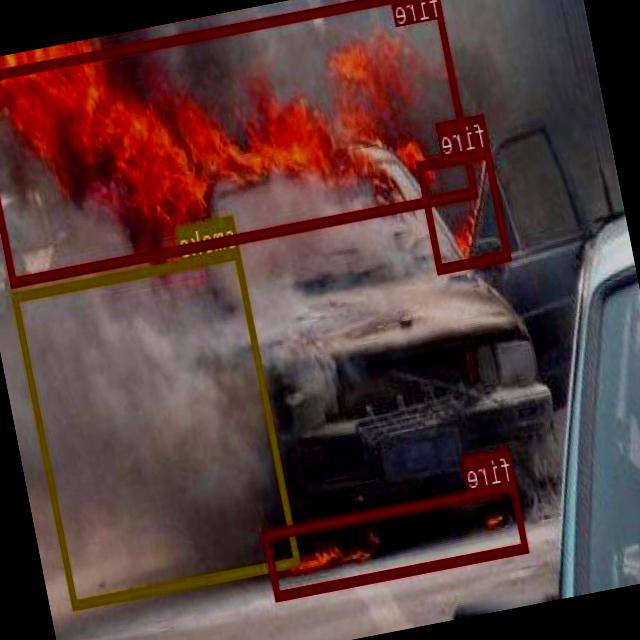fire: (0, 0, 478, 285), (264, 480, 530, 599), (418, 146, 512, 272)
smoke: (12, 248, 301, 607)
